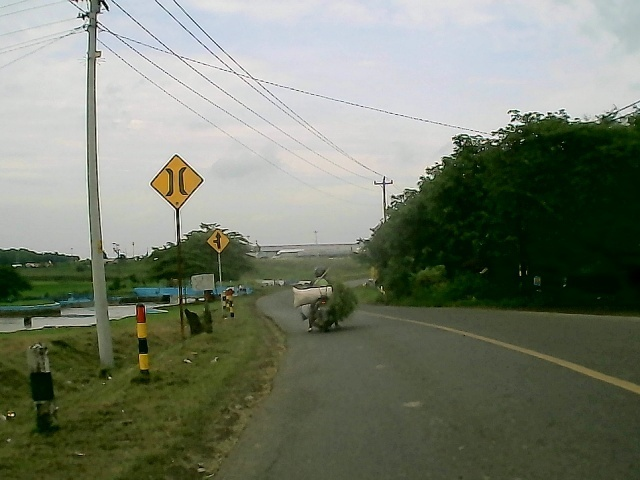Jembatan: (149, 151, 206, 211)
Simpang kiri dengan prioritas: (206, 229, 231, 255)
